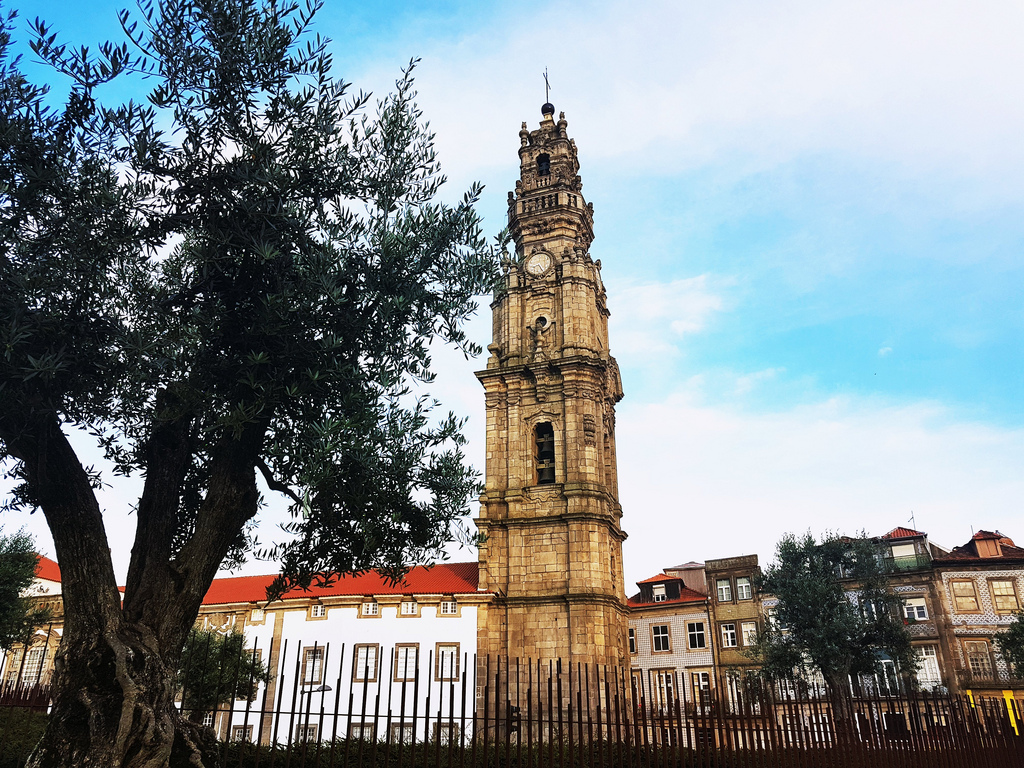clerigos: (473, 66, 639, 745)
